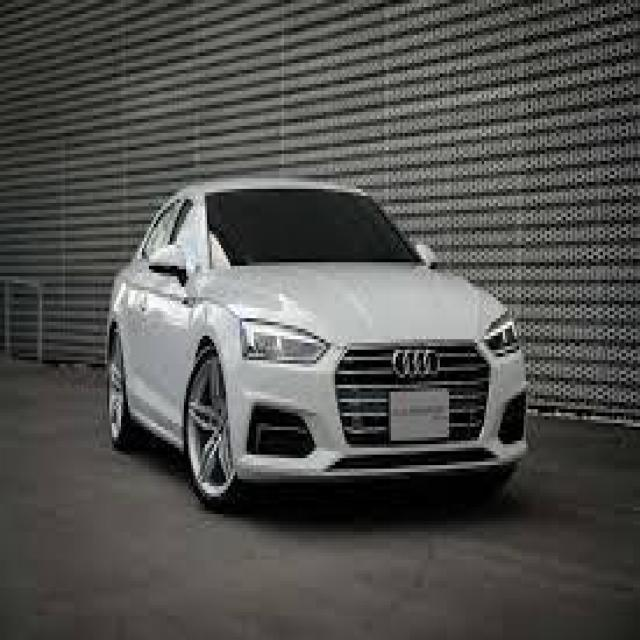front_bumper: (227, 343, 530, 479)
front_glass: (206, 190, 426, 266)
front_left_light: (485, 311, 522, 357)
front_right_door: (136, 193, 202, 439)
front_right_light: (238, 318, 331, 364)
hood: (193, 263, 510, 347)
left_mirror: (417, 244, 444, 263)
right_mirror: (146, 241, 183, 290)
wheel: (183, 345, 234, 511), (108, 328, 128, 450)
